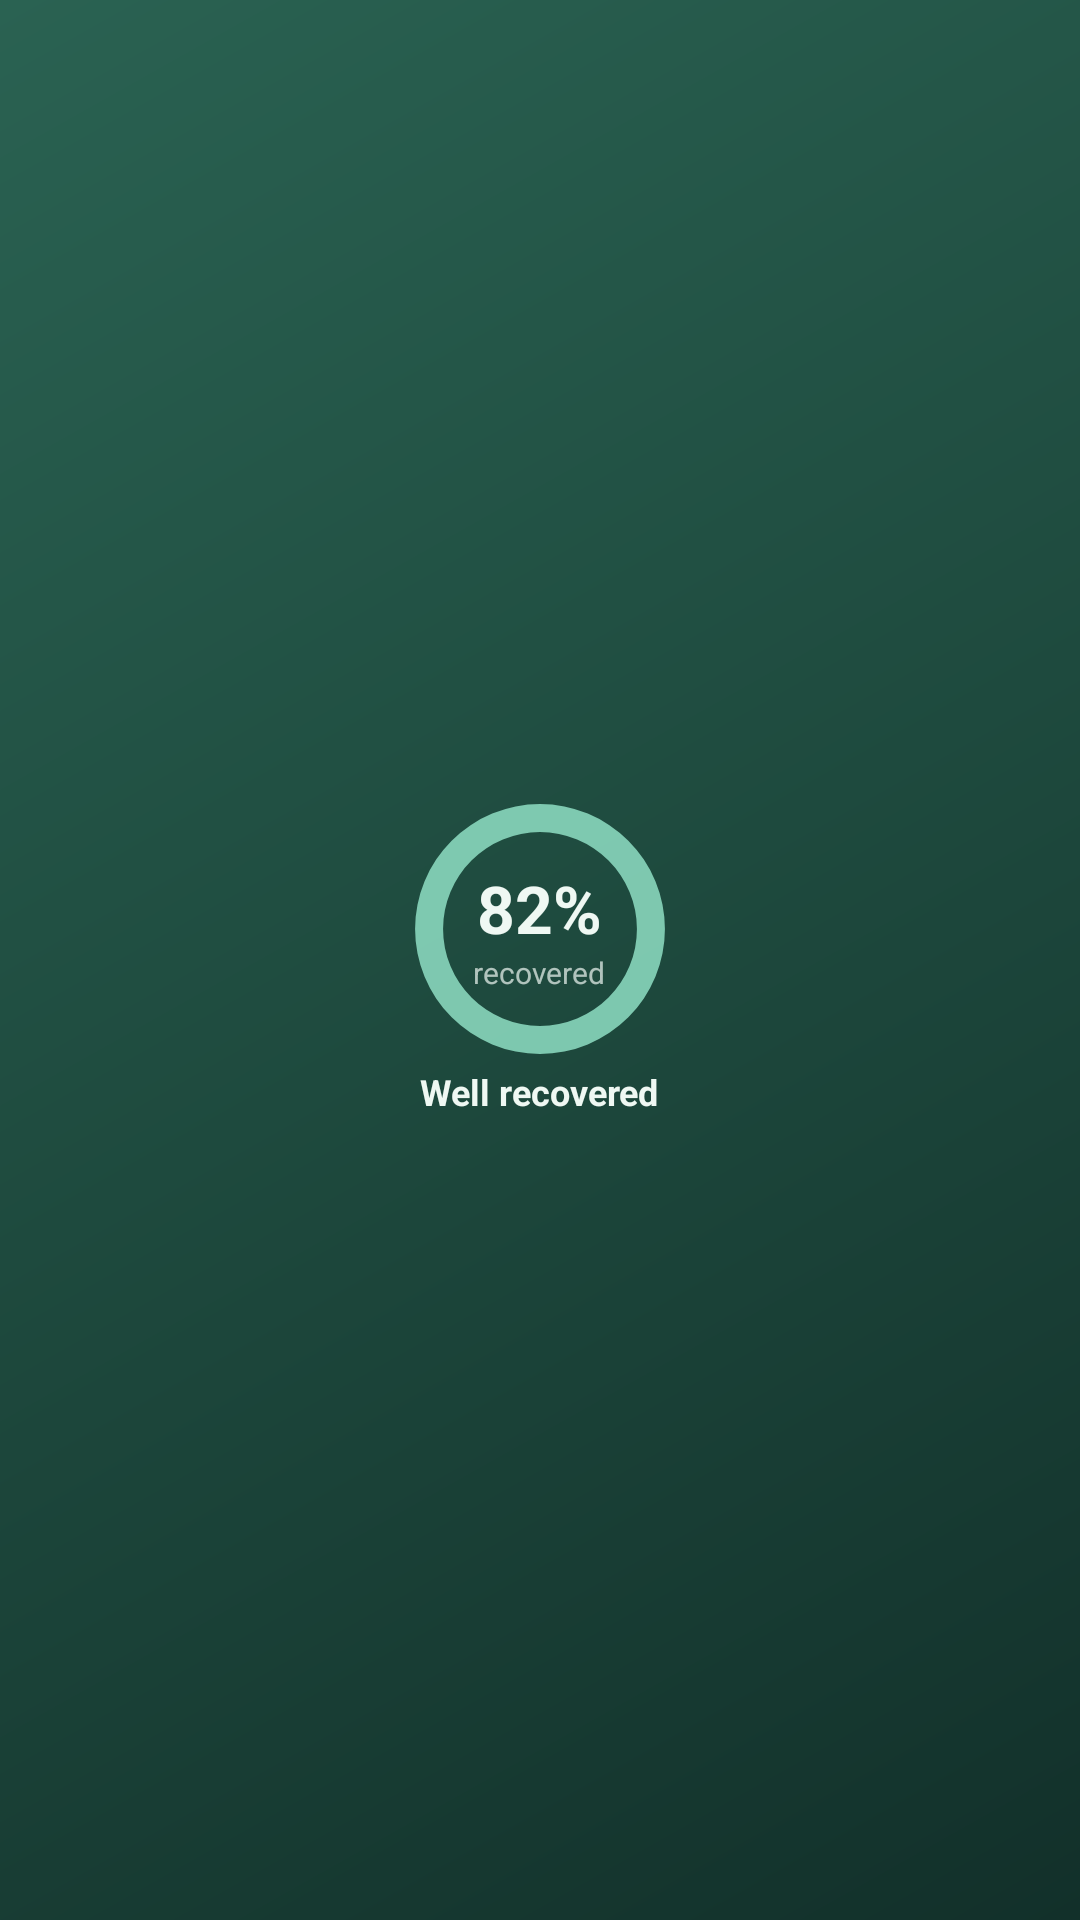

Screen size 1080*1920. Icon name, then its box in pixels as (x1, y1, x2, y2):
widget ring forest: (415, 804, 665, 1054)
